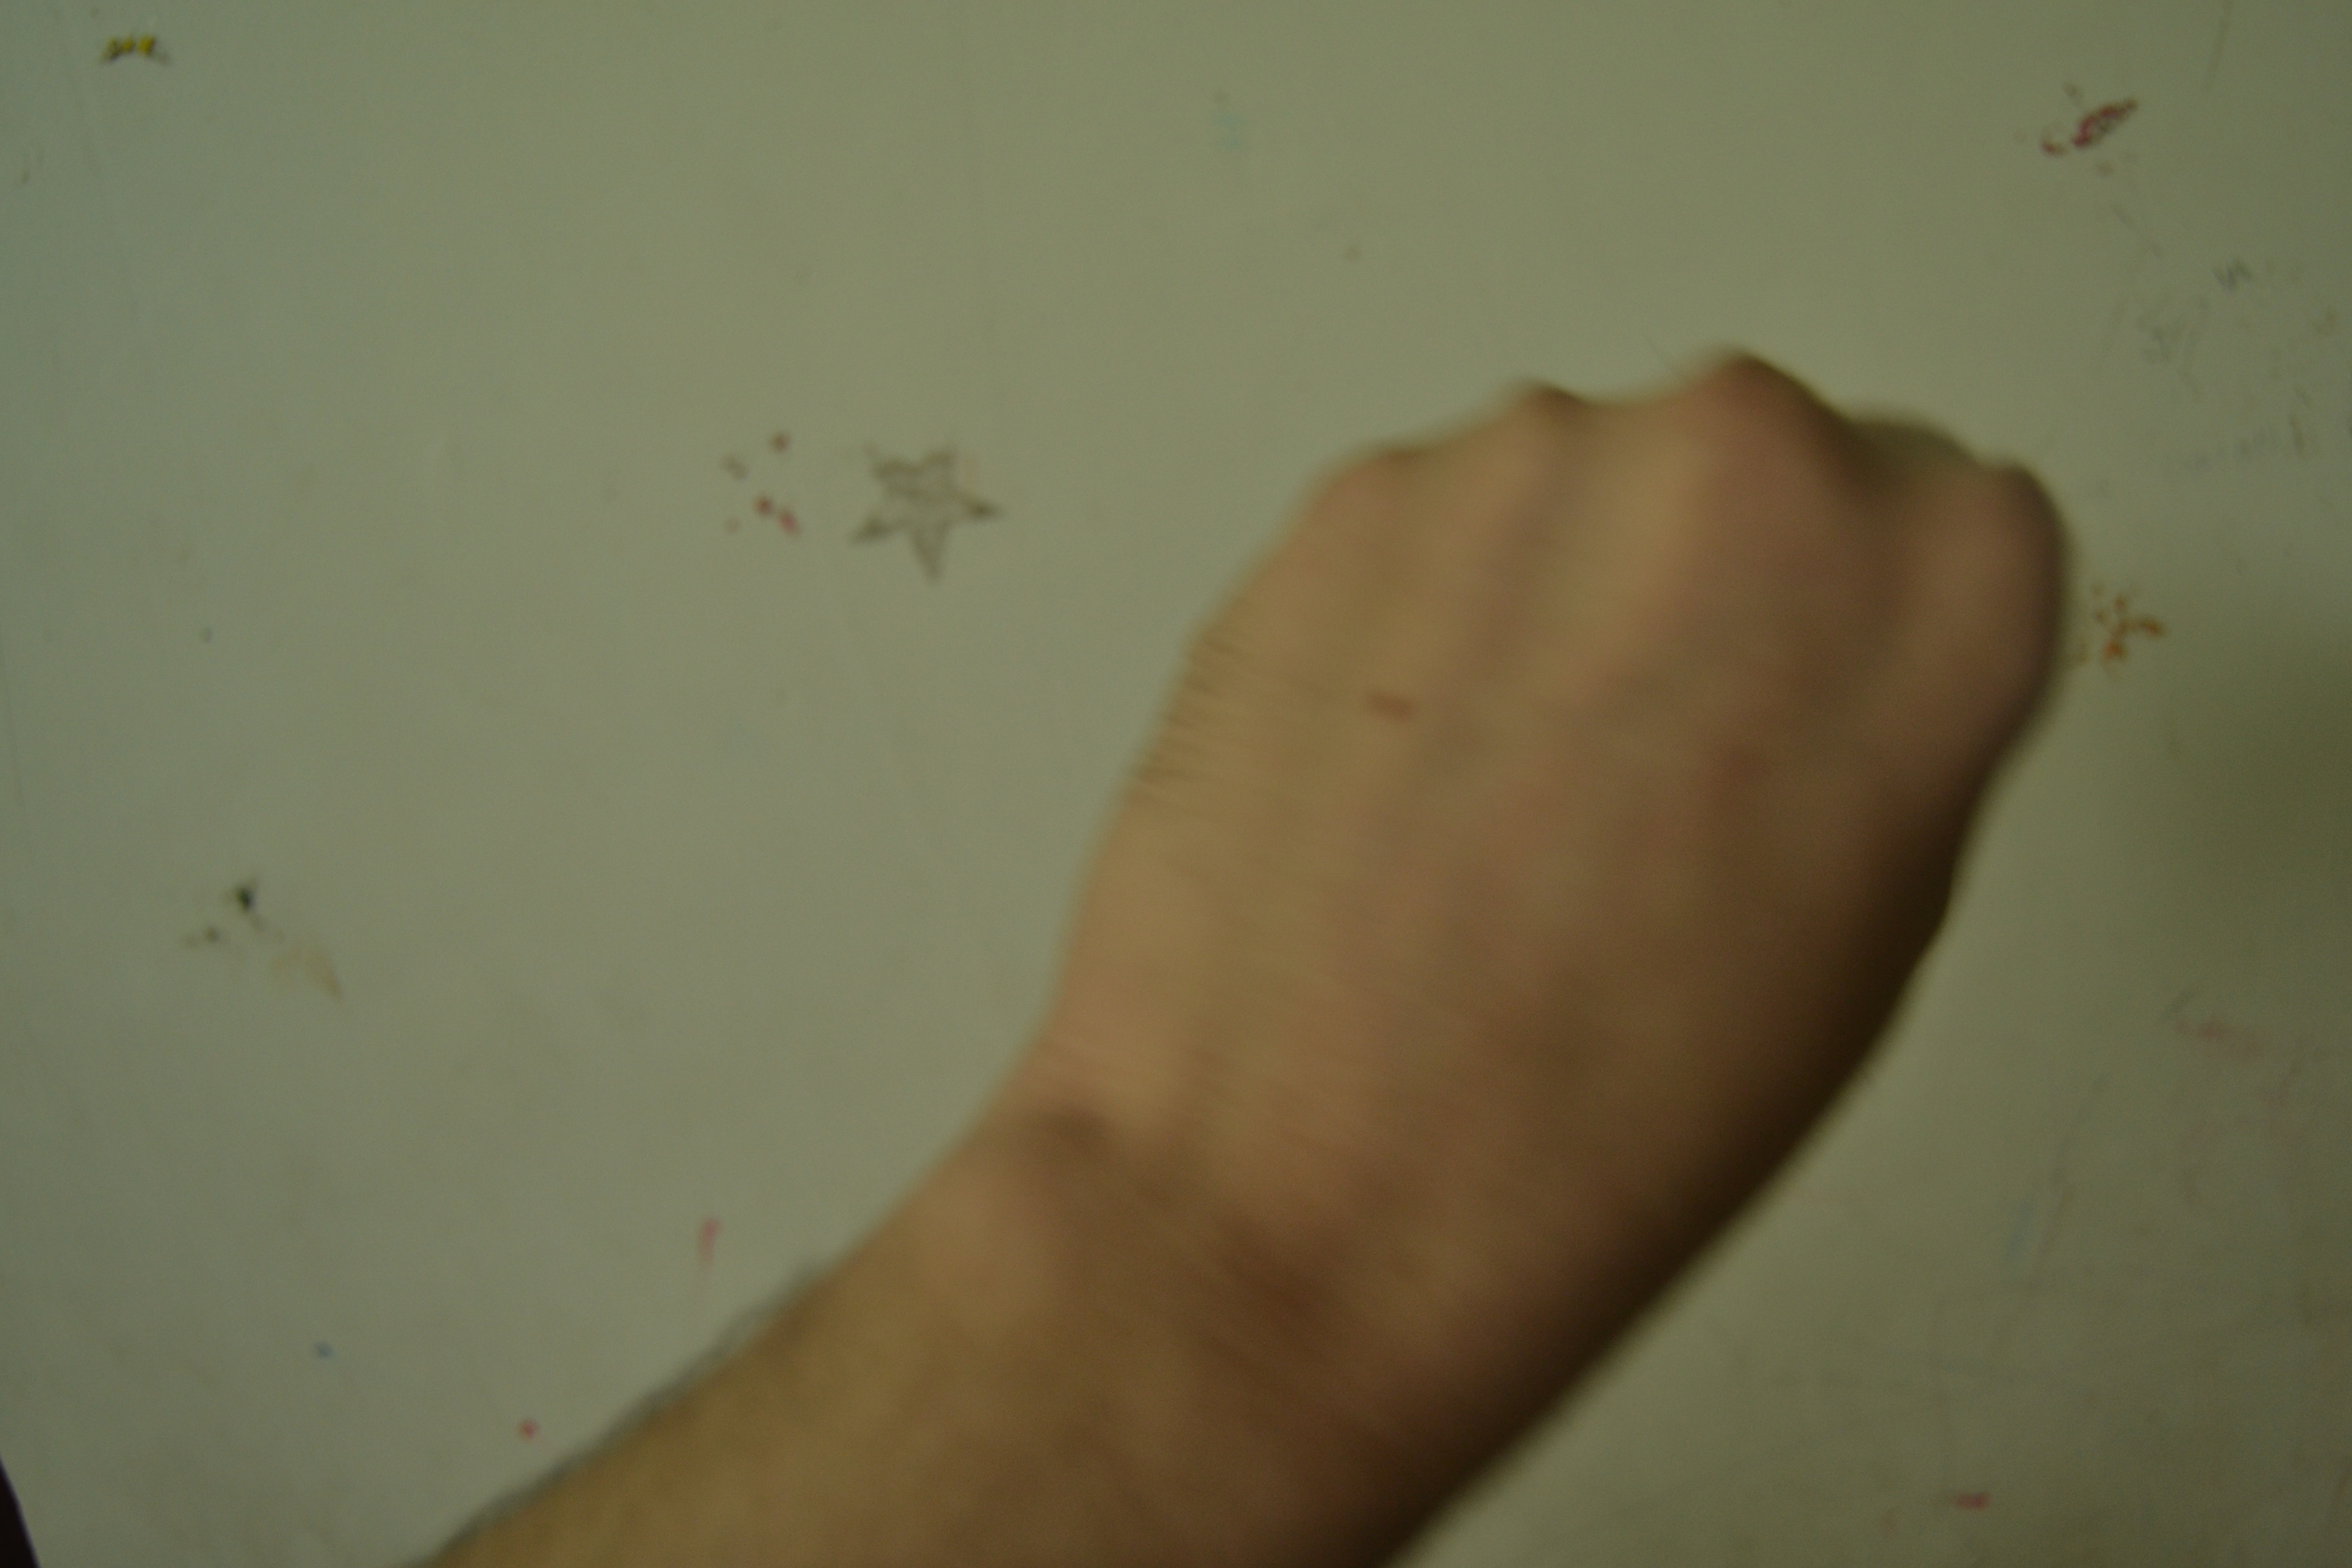click: (999, 336, 2131, 1535)
